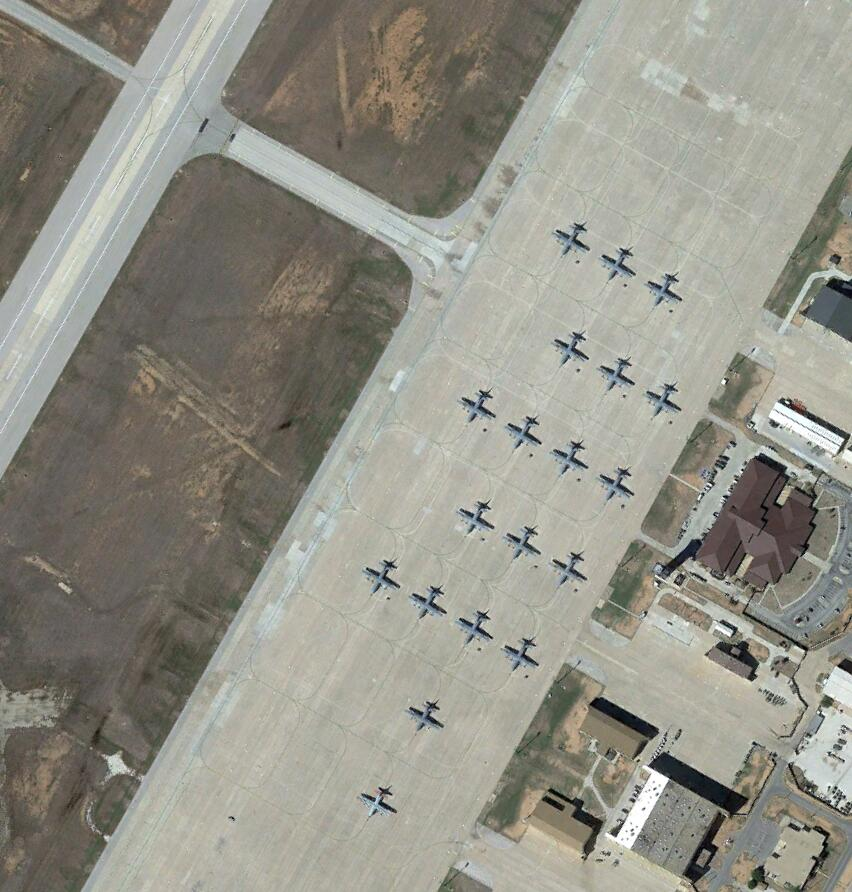A2: (501, 624, 543, 677), (596, 348, 639, 397), (410, 579, 453, 628), (595, 242, 640, 288), (360, 551, 405, 597), (548, 218, 594, 262), (358, 779, 403, 823), (548, 544, 591, 590), (404, 696, 450, 739), (643, 376, 685, 423), (549, 434, 593, 478), (550, 324, 592, 367), (647, 268, 688, 311), (503, 412, 543, 456), (596, 463, 636, 506), (457, 385, 498, 426), (458, 605, 496, 649), (505, 521, 542, 563), (459, 497, 496, 535)
